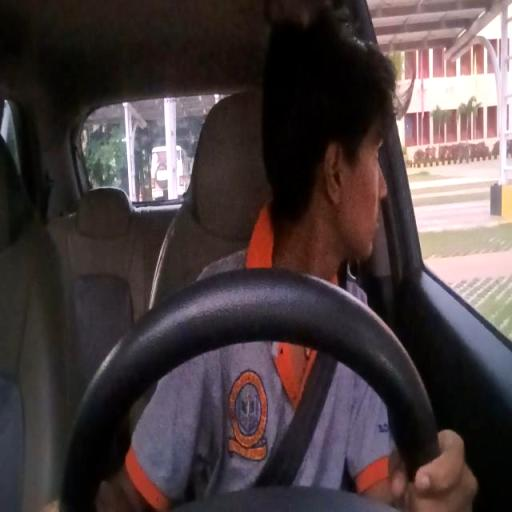Reaching_behind: (164, 26, 466, 504)
